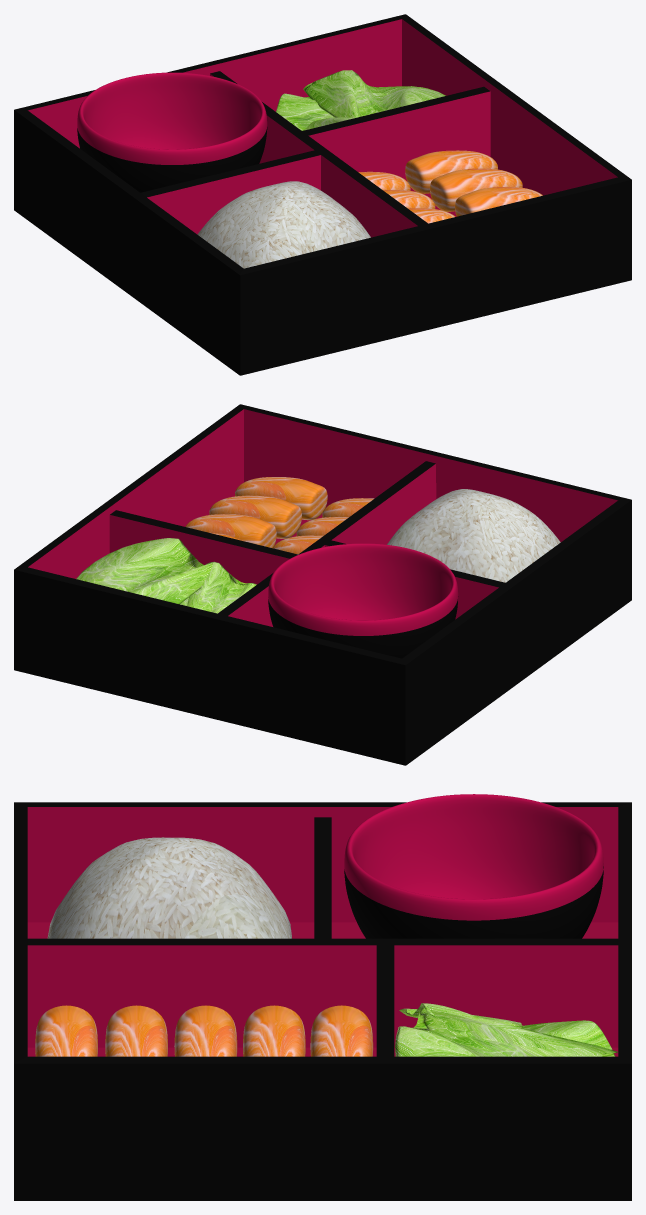
File: Bento.fbx
3 views of the same model, one above another, from view 1: azimuth 30°, elevation 25°; view 2: azimuth 150°, elevation 25°; view 3: azimuth 270°, elevation 25° (orthographic). The views are drawn at different scales.
Visible parts, largest first — view 1: polySurface1, pSphere1, pPyramid1, pasted__pasted__pCube3 (×4), polyToSubd1, pasted__pCube3, pasted__pasted__pasted__pCube3; view 2: polySurface1, pSphere1, pPyramid1, pasted__pasted__pCube3 (×3), polyToSubd1, pasted__pasted__pasted__pCube3 (×3), pasted__pCube3; view 3: polySurface1, pSphere1, pPyramid1, pasted__pasted__pasted__pCube3 (×4), polyToSubd1, pasted__pasted__pCube3 (×2).
Part boxes in pixels (bbox=[...]): polySurface1: bbox=[14, 14, 631, 375]; pSphere1: bbox=[77, 72, 267, 192]; pPyramid1: bbox=[197, 181, 370, 268]; pasted__pasted__pCube3 (×4): bbox=[276, 93, 542, 216]; polyToSubd1: bbox=[303, 70, 445, 117]; pasted__pCube3: bbox=[405, 150, 497, 193]; pasted__pasted__pasted__pCube3: bbox=[383, 190, 435, 208]; polySurface1: bbox=[14, 404, 631, 765]; pSphere1: bbox=[268, 543, 458, 658]; pPyramid1: bbox=[387, 489, 560, 582]; pasted__pasted__pCube3 (×3): bbox=[185, 477, 327, 548]; polyToSubd1: bbox=[76, 538, 212, 604]; pasted__pasted__pasted__pCube3 (×3): bbox=[273, 498, 374, 553]; pasted__pCube3: bbox=[187, 561, 256, 613]; polySurface1: bbox=[14, 802, 631, 1200]; pSphere1: bbox=[344, 794, 603, 938]; pPyramid1: bbox=[47, 837, 291, 938]; pasted__pasted__pasted__pCube3 (×4): bbox=[35, 1005, 305, 1056]; polyToSubd1: bbox=[395, 1005, 617, 1056]; pasted__pasted__pCube3 (×2): bbox=[310, 1005, 615, 1056].
Size of the model in its own units: 19.98 by 5.95 by 19.98.
22 materials, 15 textured.
